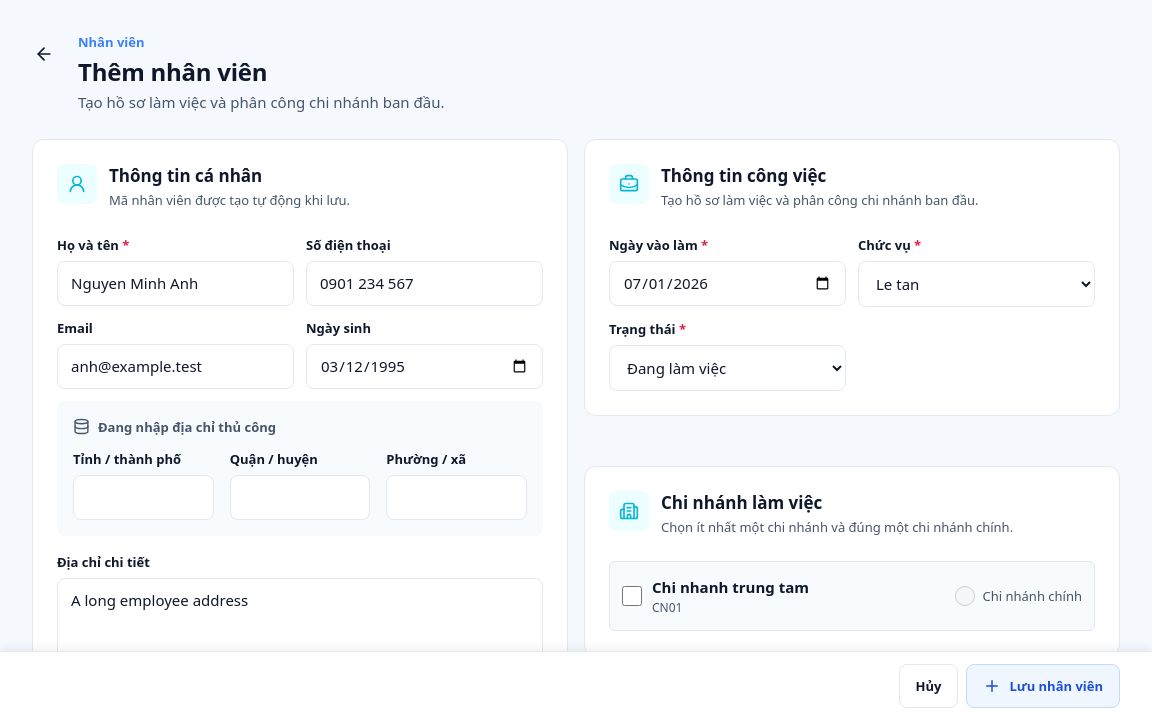
employee pages › omits an editable employee code and supports one selected primary branch
What coordinates should you click on to do the following:
click the checkbox labelled "Chi nhanh trung tam CN01"
I would click on:
 (632, 596)
Its box is [622, 574, 642, 618].
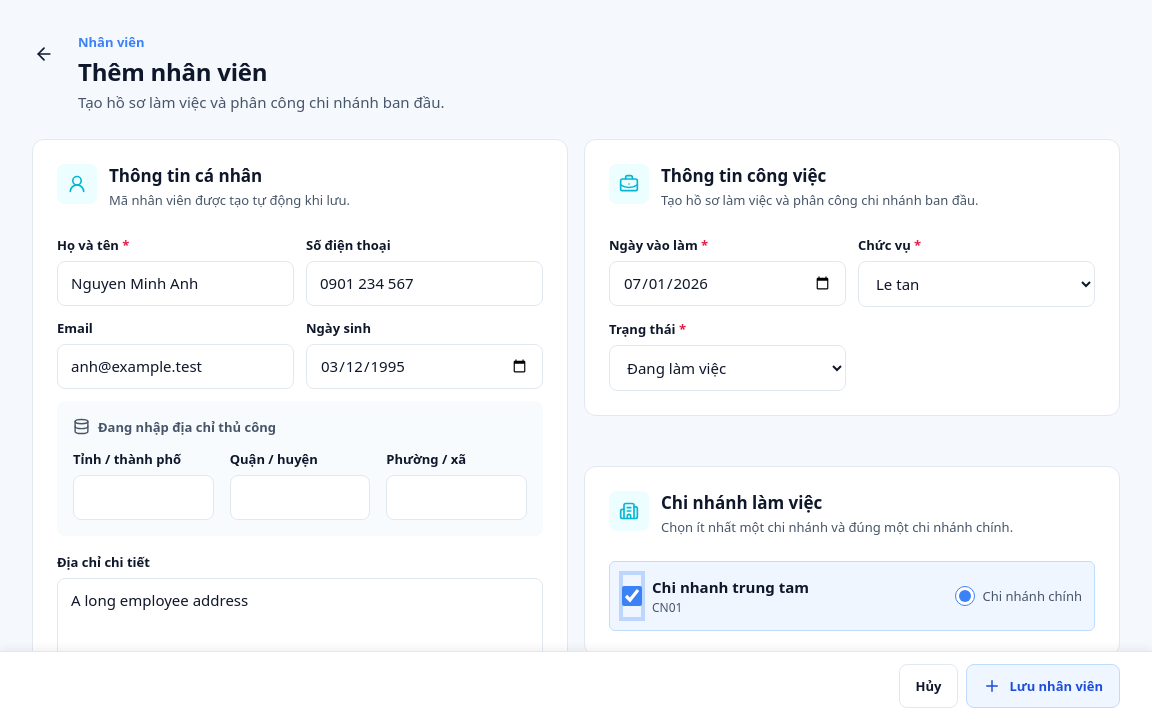
Now the checkbox labelled "Chi nhanh trung tam CN01" is checked, box [622, 574, 642, 618]
Now the radio button labelled "Chi nhánh chính" is checked, box [954, 574, 974, 618]
